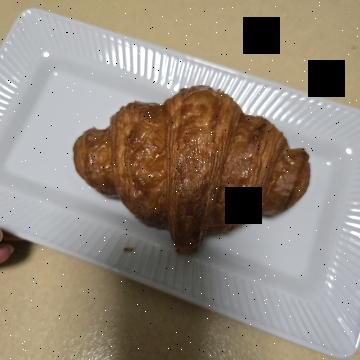croissant: (77, 34, 273, 293)
